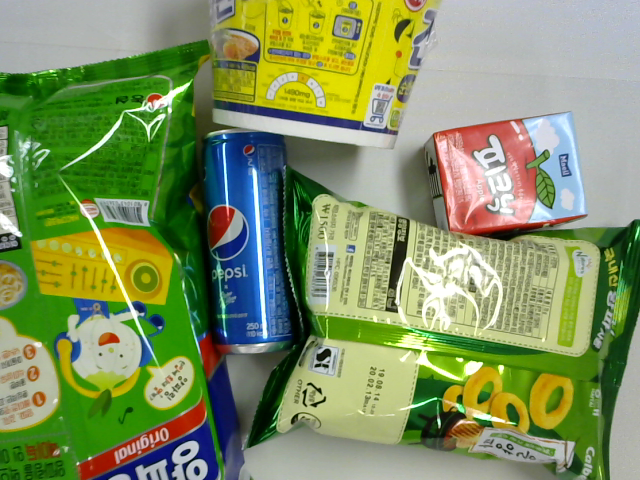Jinlamyeon_Mild_Taste_Large_Cup: (210, 1, 442, 150)
Oninon_Ring: (239, 166, 639, 475), (1, 40, 255, 477)
Pepsi_Cola_Can_250ml: (201, 126, 294, 355)
Picnic_Apple: (423, 111, 587, 231)
